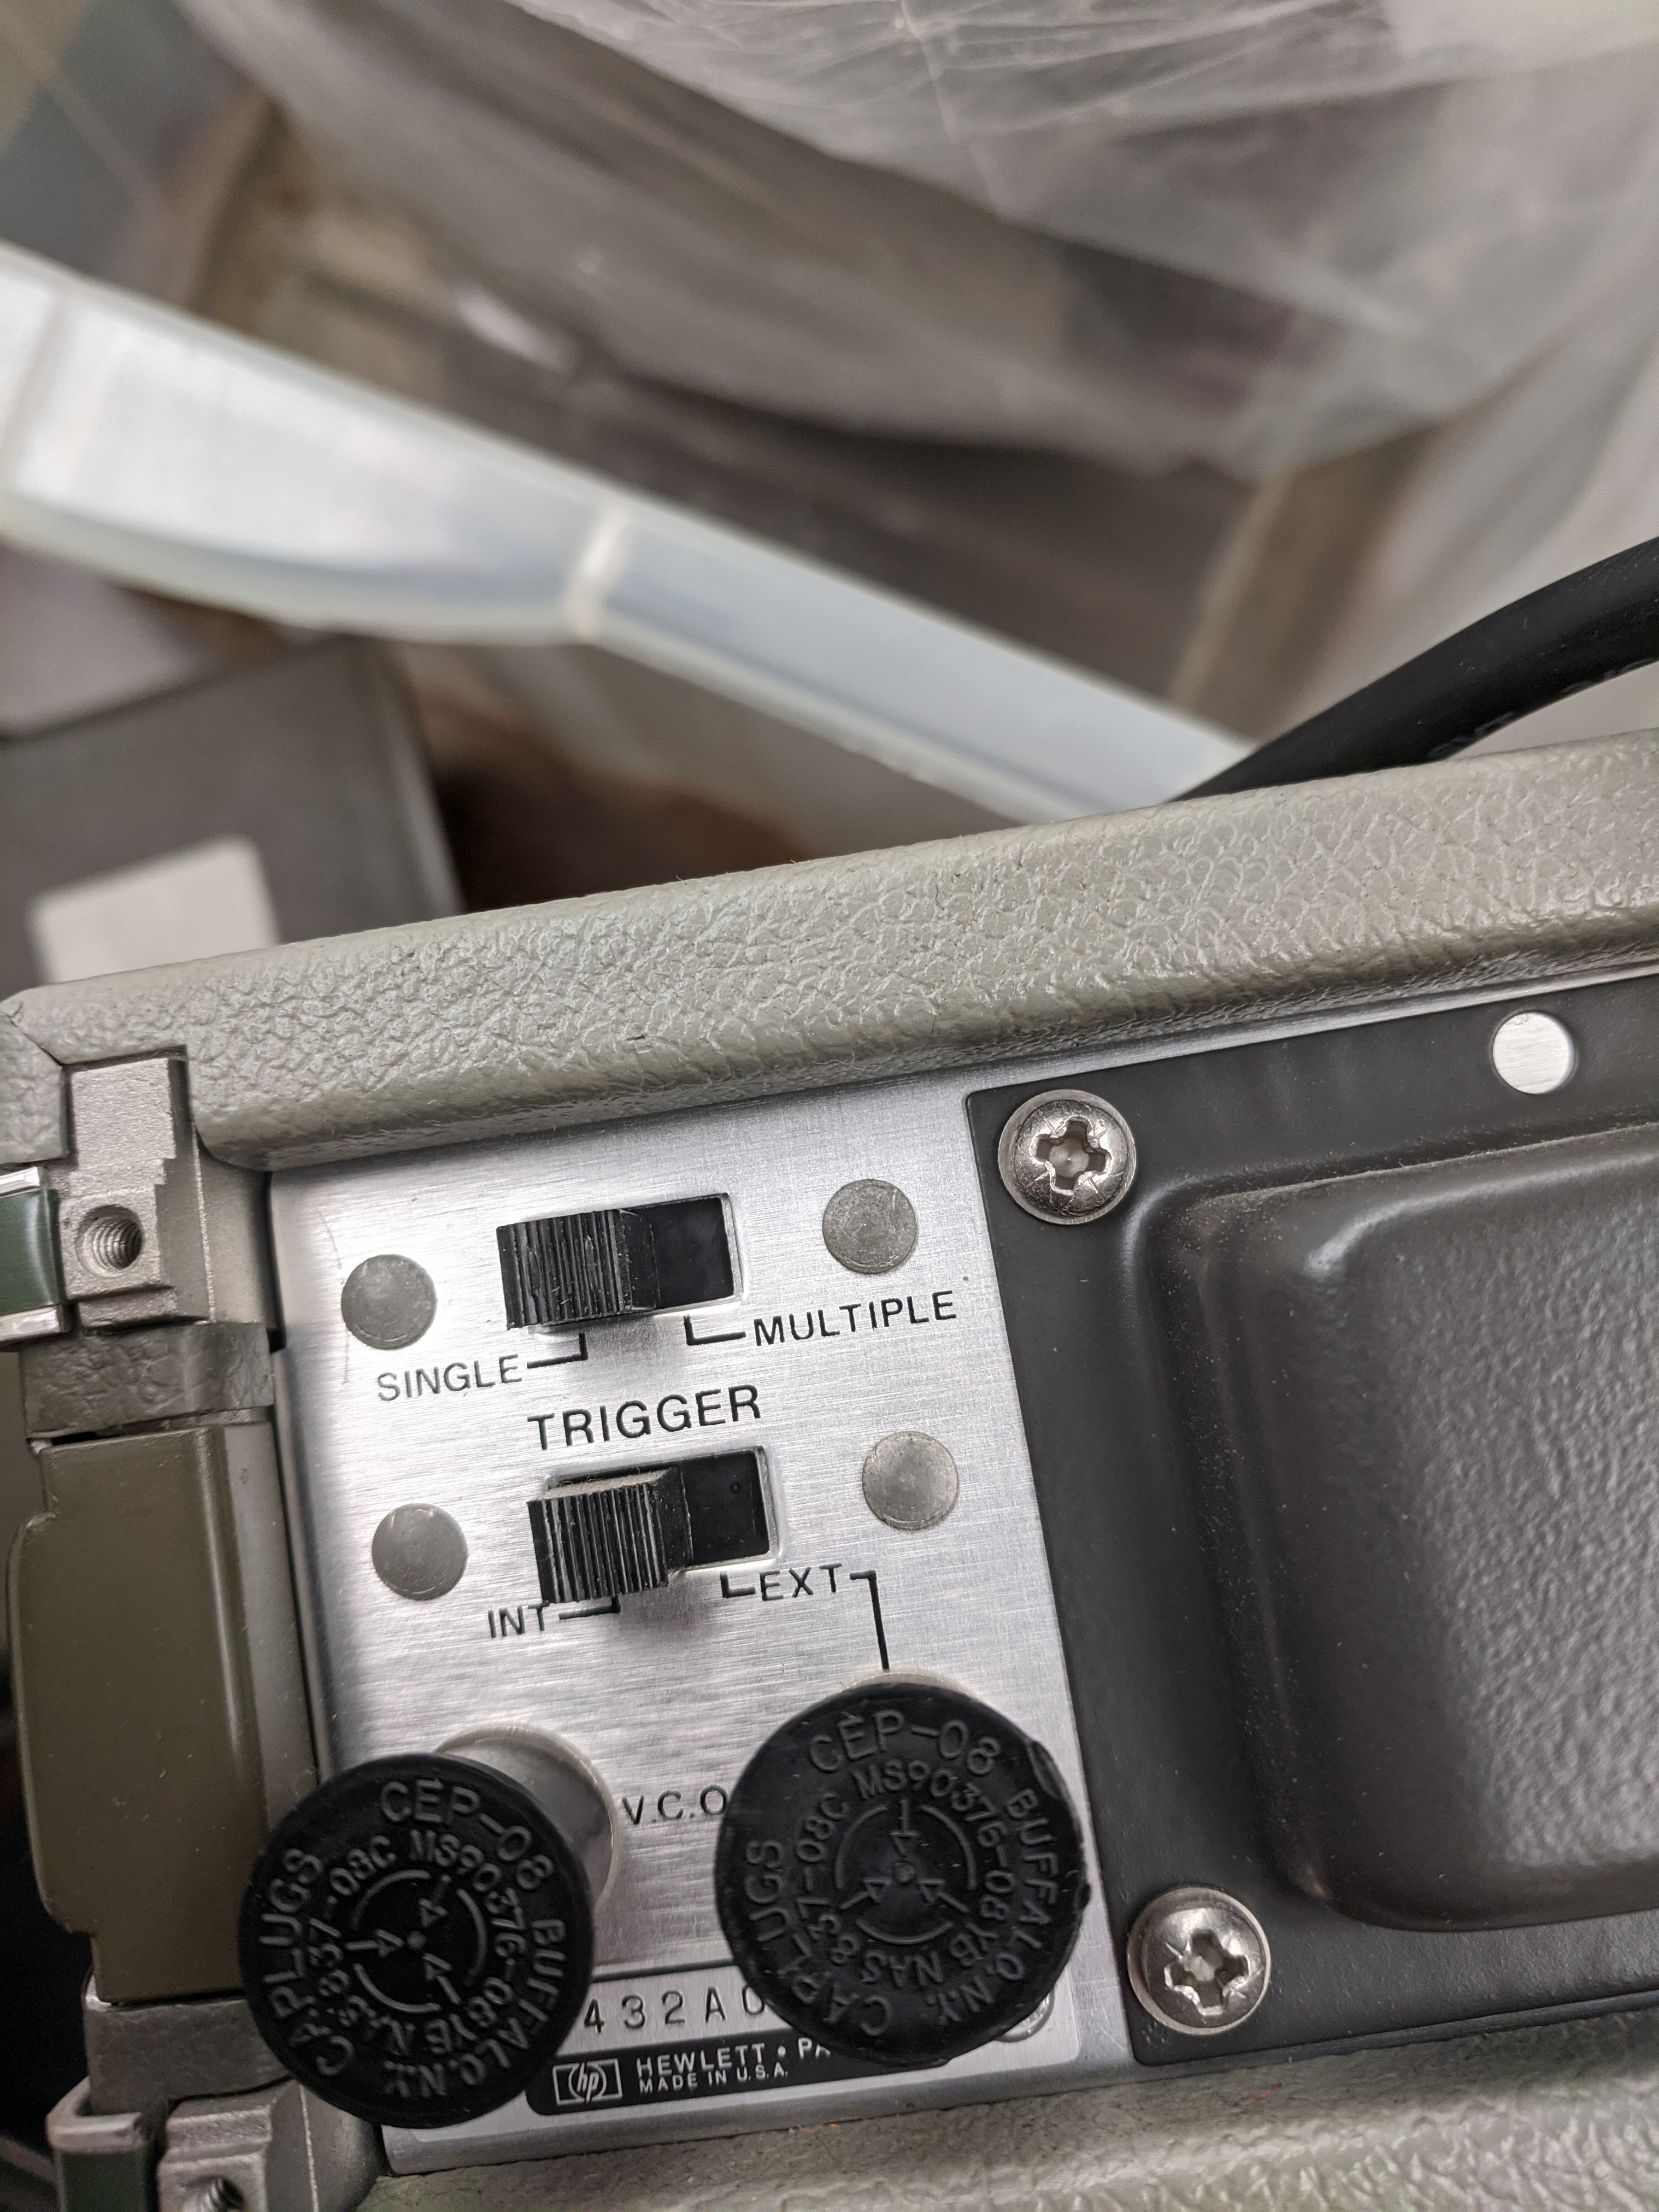cross_recessed_screw: (1122, 1869, 1283, 2047), (986, 1078, 1152, 1223)
